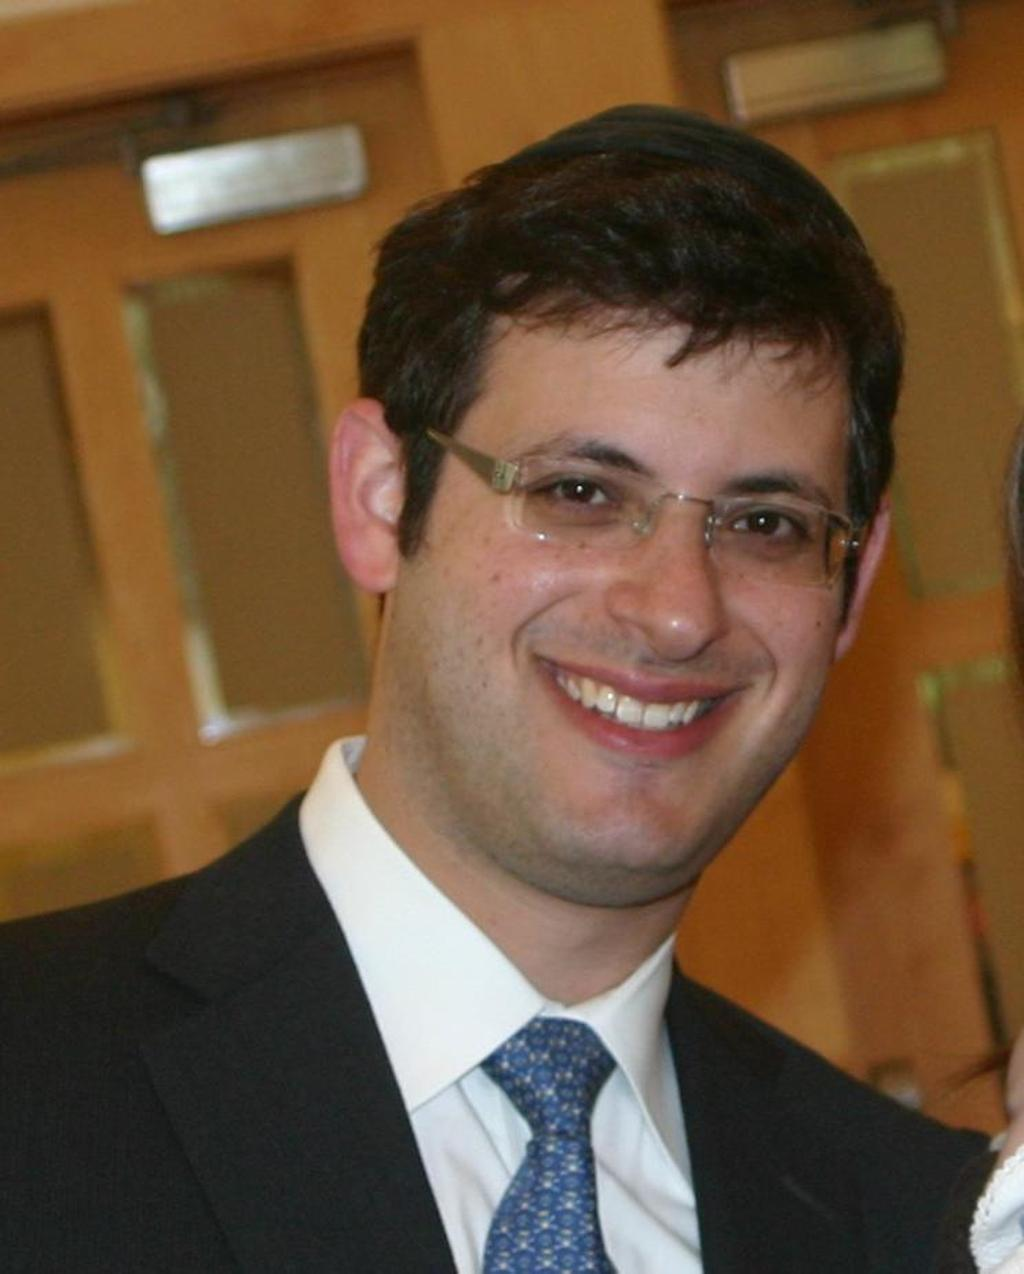face: (425, 301, 850, 873)
